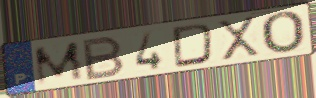4: (132, 29, 167, 72)
B: (81, 34, 127, 82)
D: (170, 22, 216, 70)
M: (31, 39, 87, 88)
O: (258, 10, 306, 56)
X: (215, 14, 263, 63)
